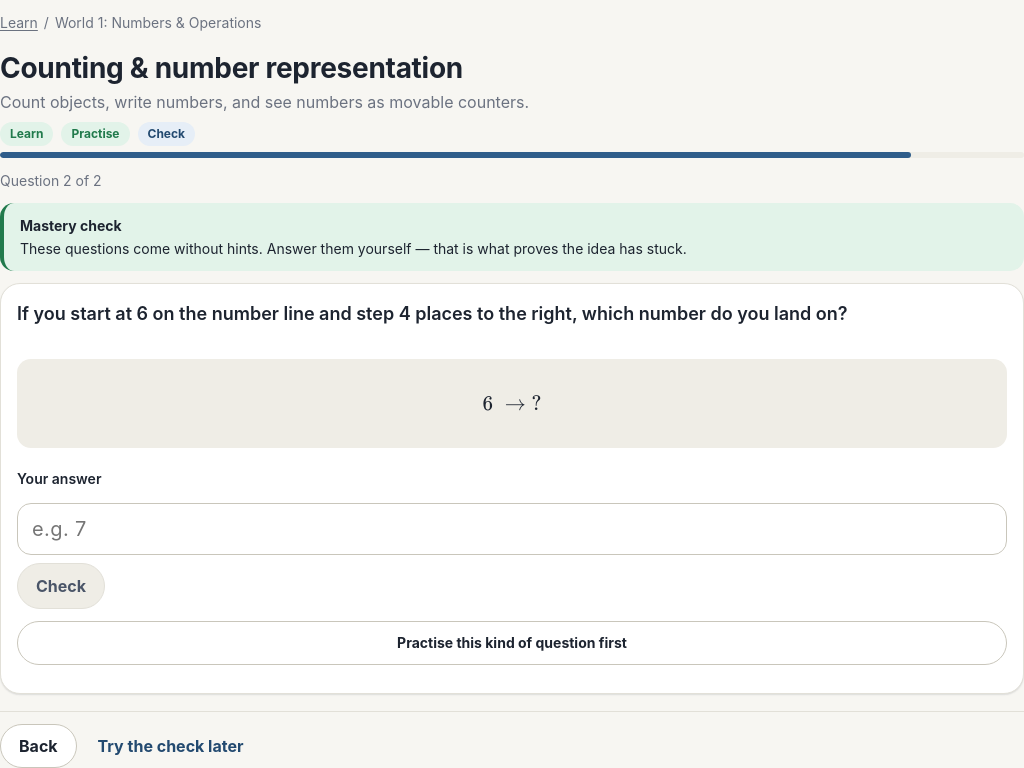
a progress write that fails (defect B) › completion is not shown when the completion write fails
The width and height of the screenshot is (1024, 768).
Note: Answer the last check so its Finish button appears.
In the field with test id "answer-input": (512, 529) [17, 503, 1007, 555], type "10"
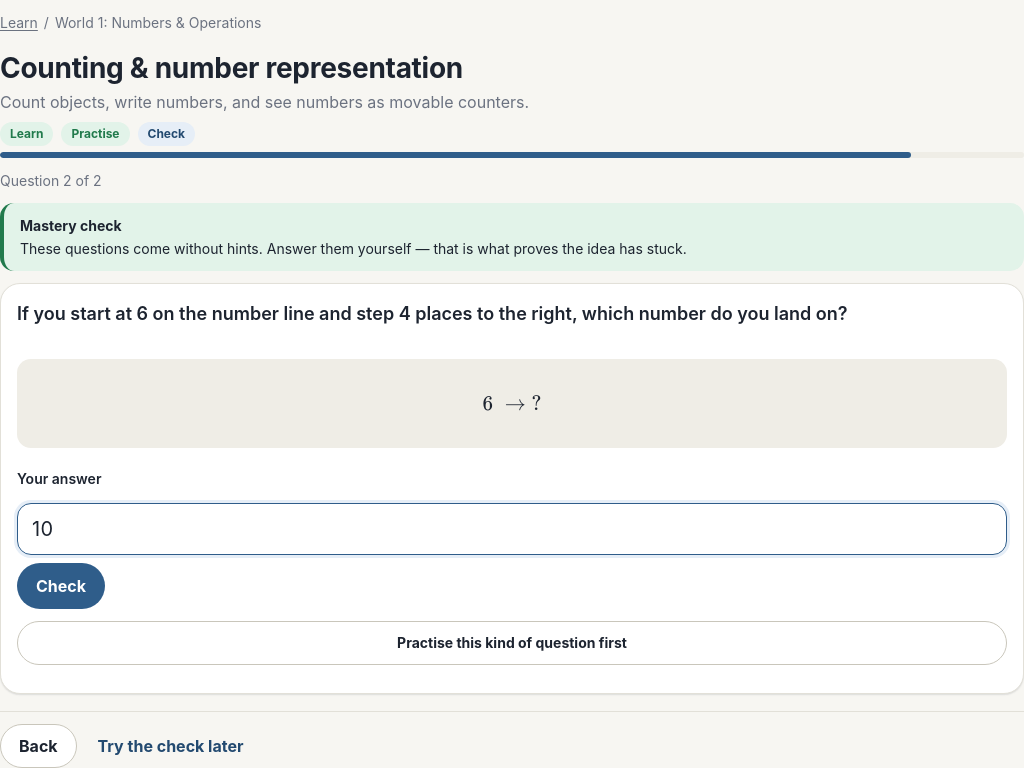
Click the button with test id "submit-answer": (61, 586) [17, 563, 105, 609]
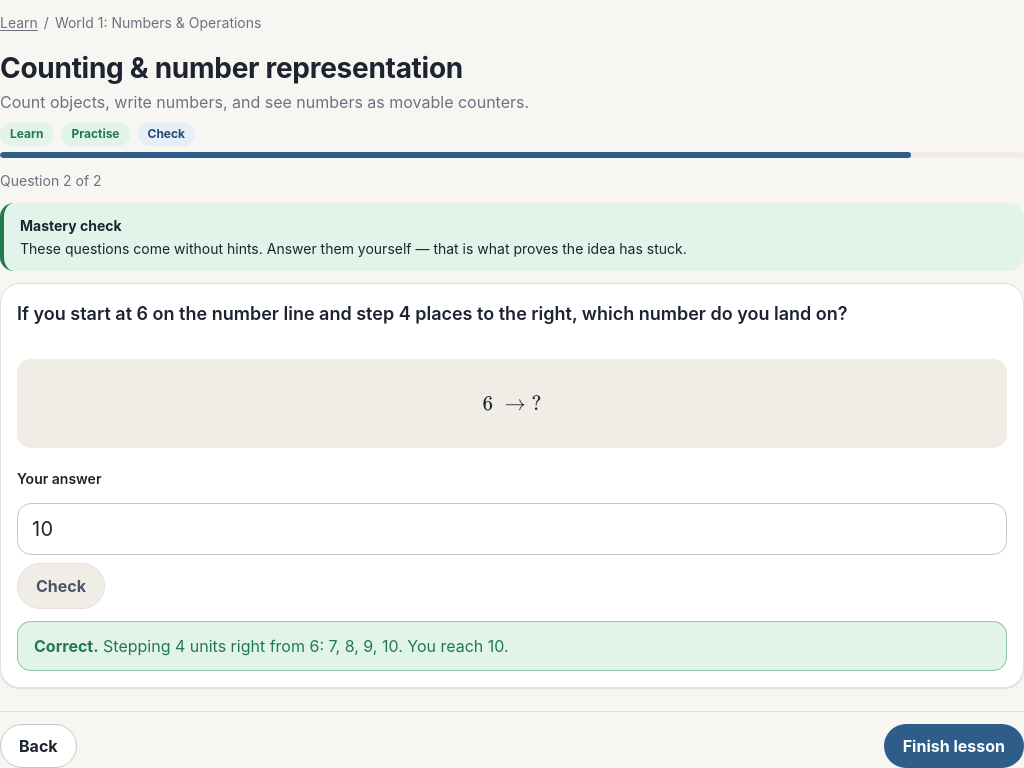
Click the button with test id "finish-lesson": (954, 746) [884, 724, 1023, 767]
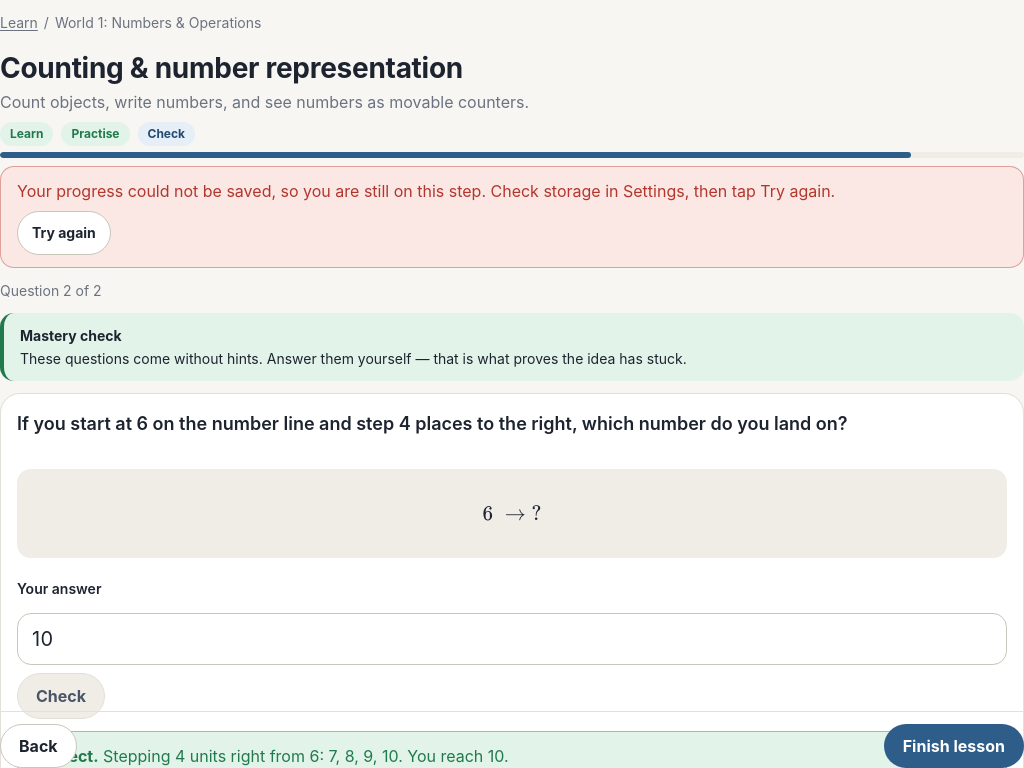
expect the message with test id "save-error" is shown: met, box [0, 166, 1023, 268]
